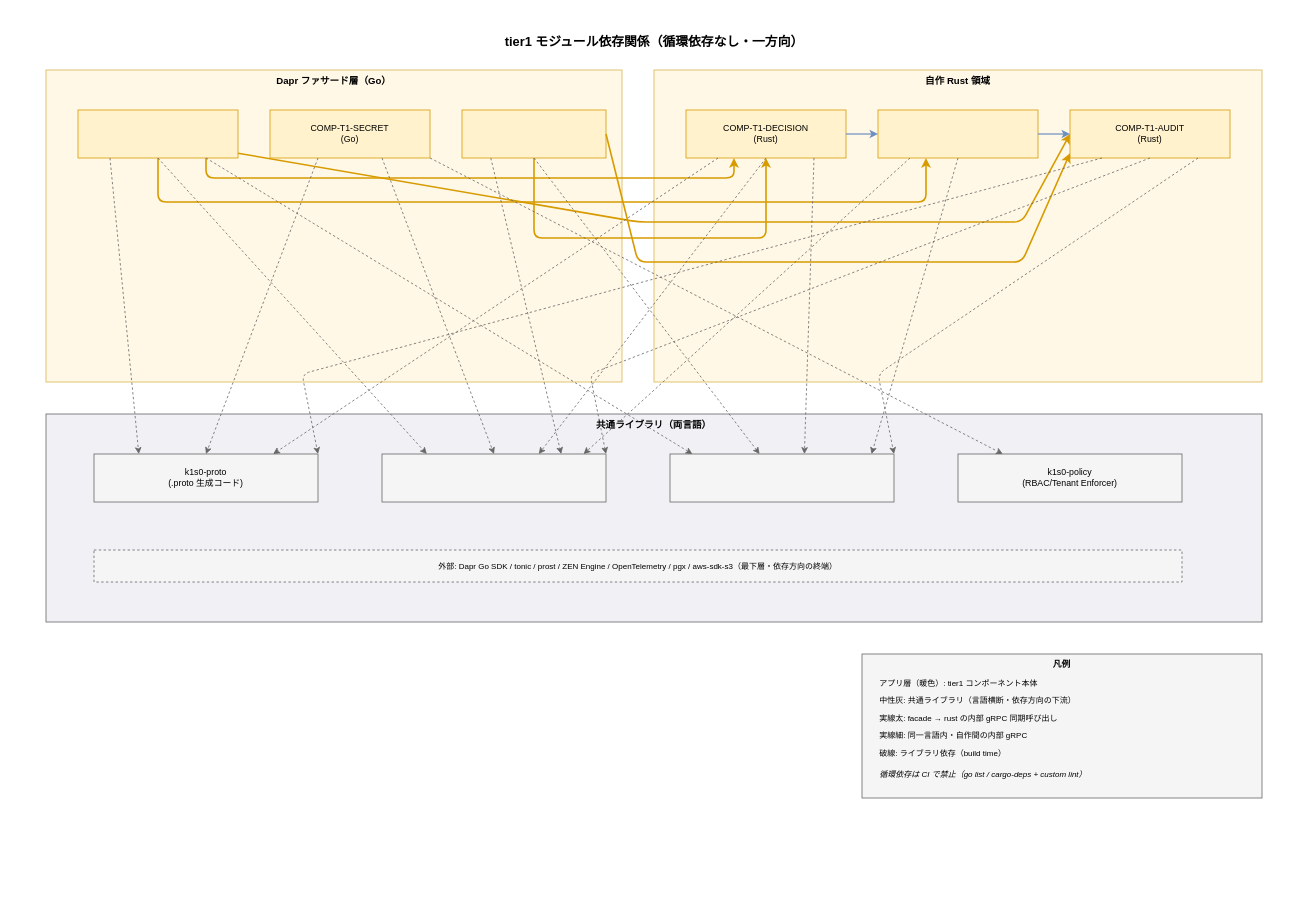
Some shapes in this 1307 by 907 pixel diagram are drawn without their labels. The shapes that lost their labels are listed below. From the top down, each one's centre as x and y in pixels, then its label:
point 157,133: COMP-T1-STATE (Go)
point 533,133: COMP-T1-WORKFLOW (Go)
point 957,133: COMP-T1-PII (Rust)
point 493,477: k1s0-common (エラー/ID/時刻/設定)
point 781,477: k1s0-otel (OTel span/metric 共通初期化)
